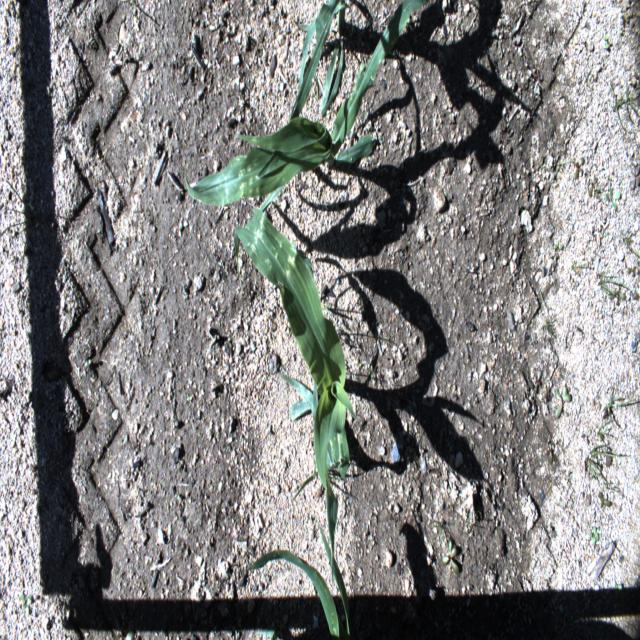crop: (232, 207, 362, 595), (238, 518, 352, 636), (285, 0, 347, 137)
weed: (183, 0, 430, 216), (584, 443, 630, 482), (612, 80, 638, 134), (603, 393, 638, 430), (598, 269, 629, 300), (432, 521, 456, 549), (442, 540, 459, 576), (555, 384, 572, 418), (462, 508, 479, 537), (596, 417, 617, 439), (604, 186, 621, 212), (540, 317, 556, 341), (19, 593, 32, 619), (624, 237, 639, 259), (608, 288, 626, 305), (572, 156, 585, 179), (597, 490, 612, 509), (589, 522, 600, 546), (630, 165, 640, 190), (588, 175, 598, 198), (604, 32, 612, 50), (613, 582, 622, 593), (370, 362, 374, 382)
